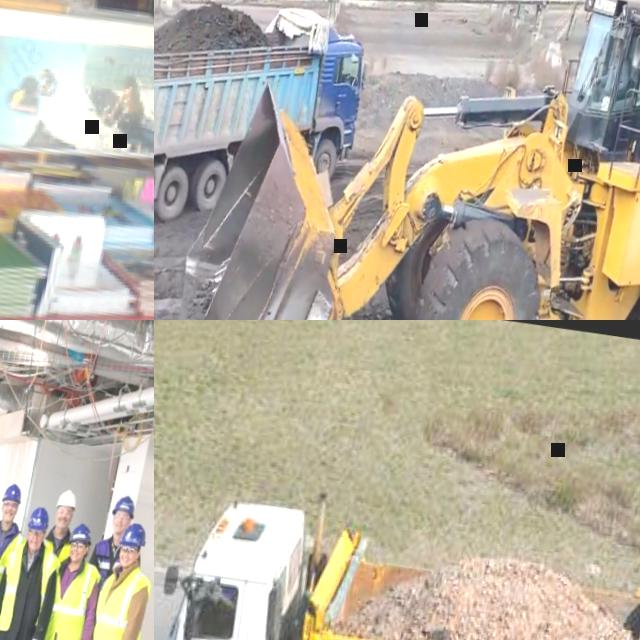helmet: (120, 522, 150, 550), (55, 486, 80, 512), (28, 505, 52, 532), (113, 493, 138, 518), (70, 522, 96, 546), (2, 481, 24, 504)
machinery: (157, 0, 640, 320), (154, 477, 640, 640), (154, 0, 376, 247)
no_mask: (26, 537, 44, 551), (112, 520, 127, 534), (54, 515, 70, 528), (118, 555, 134, 567), (2, 509, 16, 522), (70, 550, 82, 562)
no_vest: (606, 58, 626, 93)
person: (60, 490, 152, 640), (13, 485, 83, 640), (65, 519, 154, 640), (27, 519, 112, 640), (0, 501, 71, 640), (0, 477, 36, 640), (594, 43, 632, 95)
vest: (45, 556, 105, 640), (89, 563, 154, 640), (0, 521, 29, 601), (91, 538, 126, 586), (50, 540, 72, 560)
